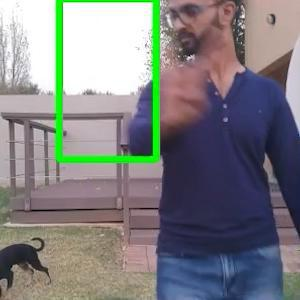takeoff-hand: (149, 39, 217, 136)
